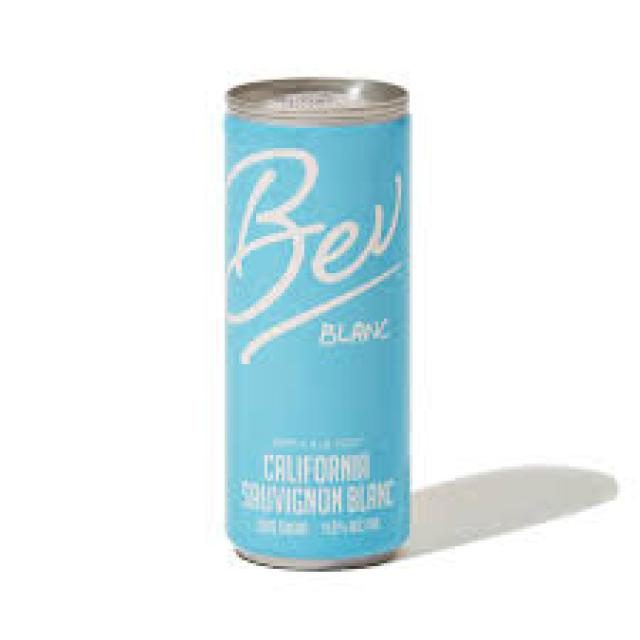Cans: (210, 62, 432, 574)
